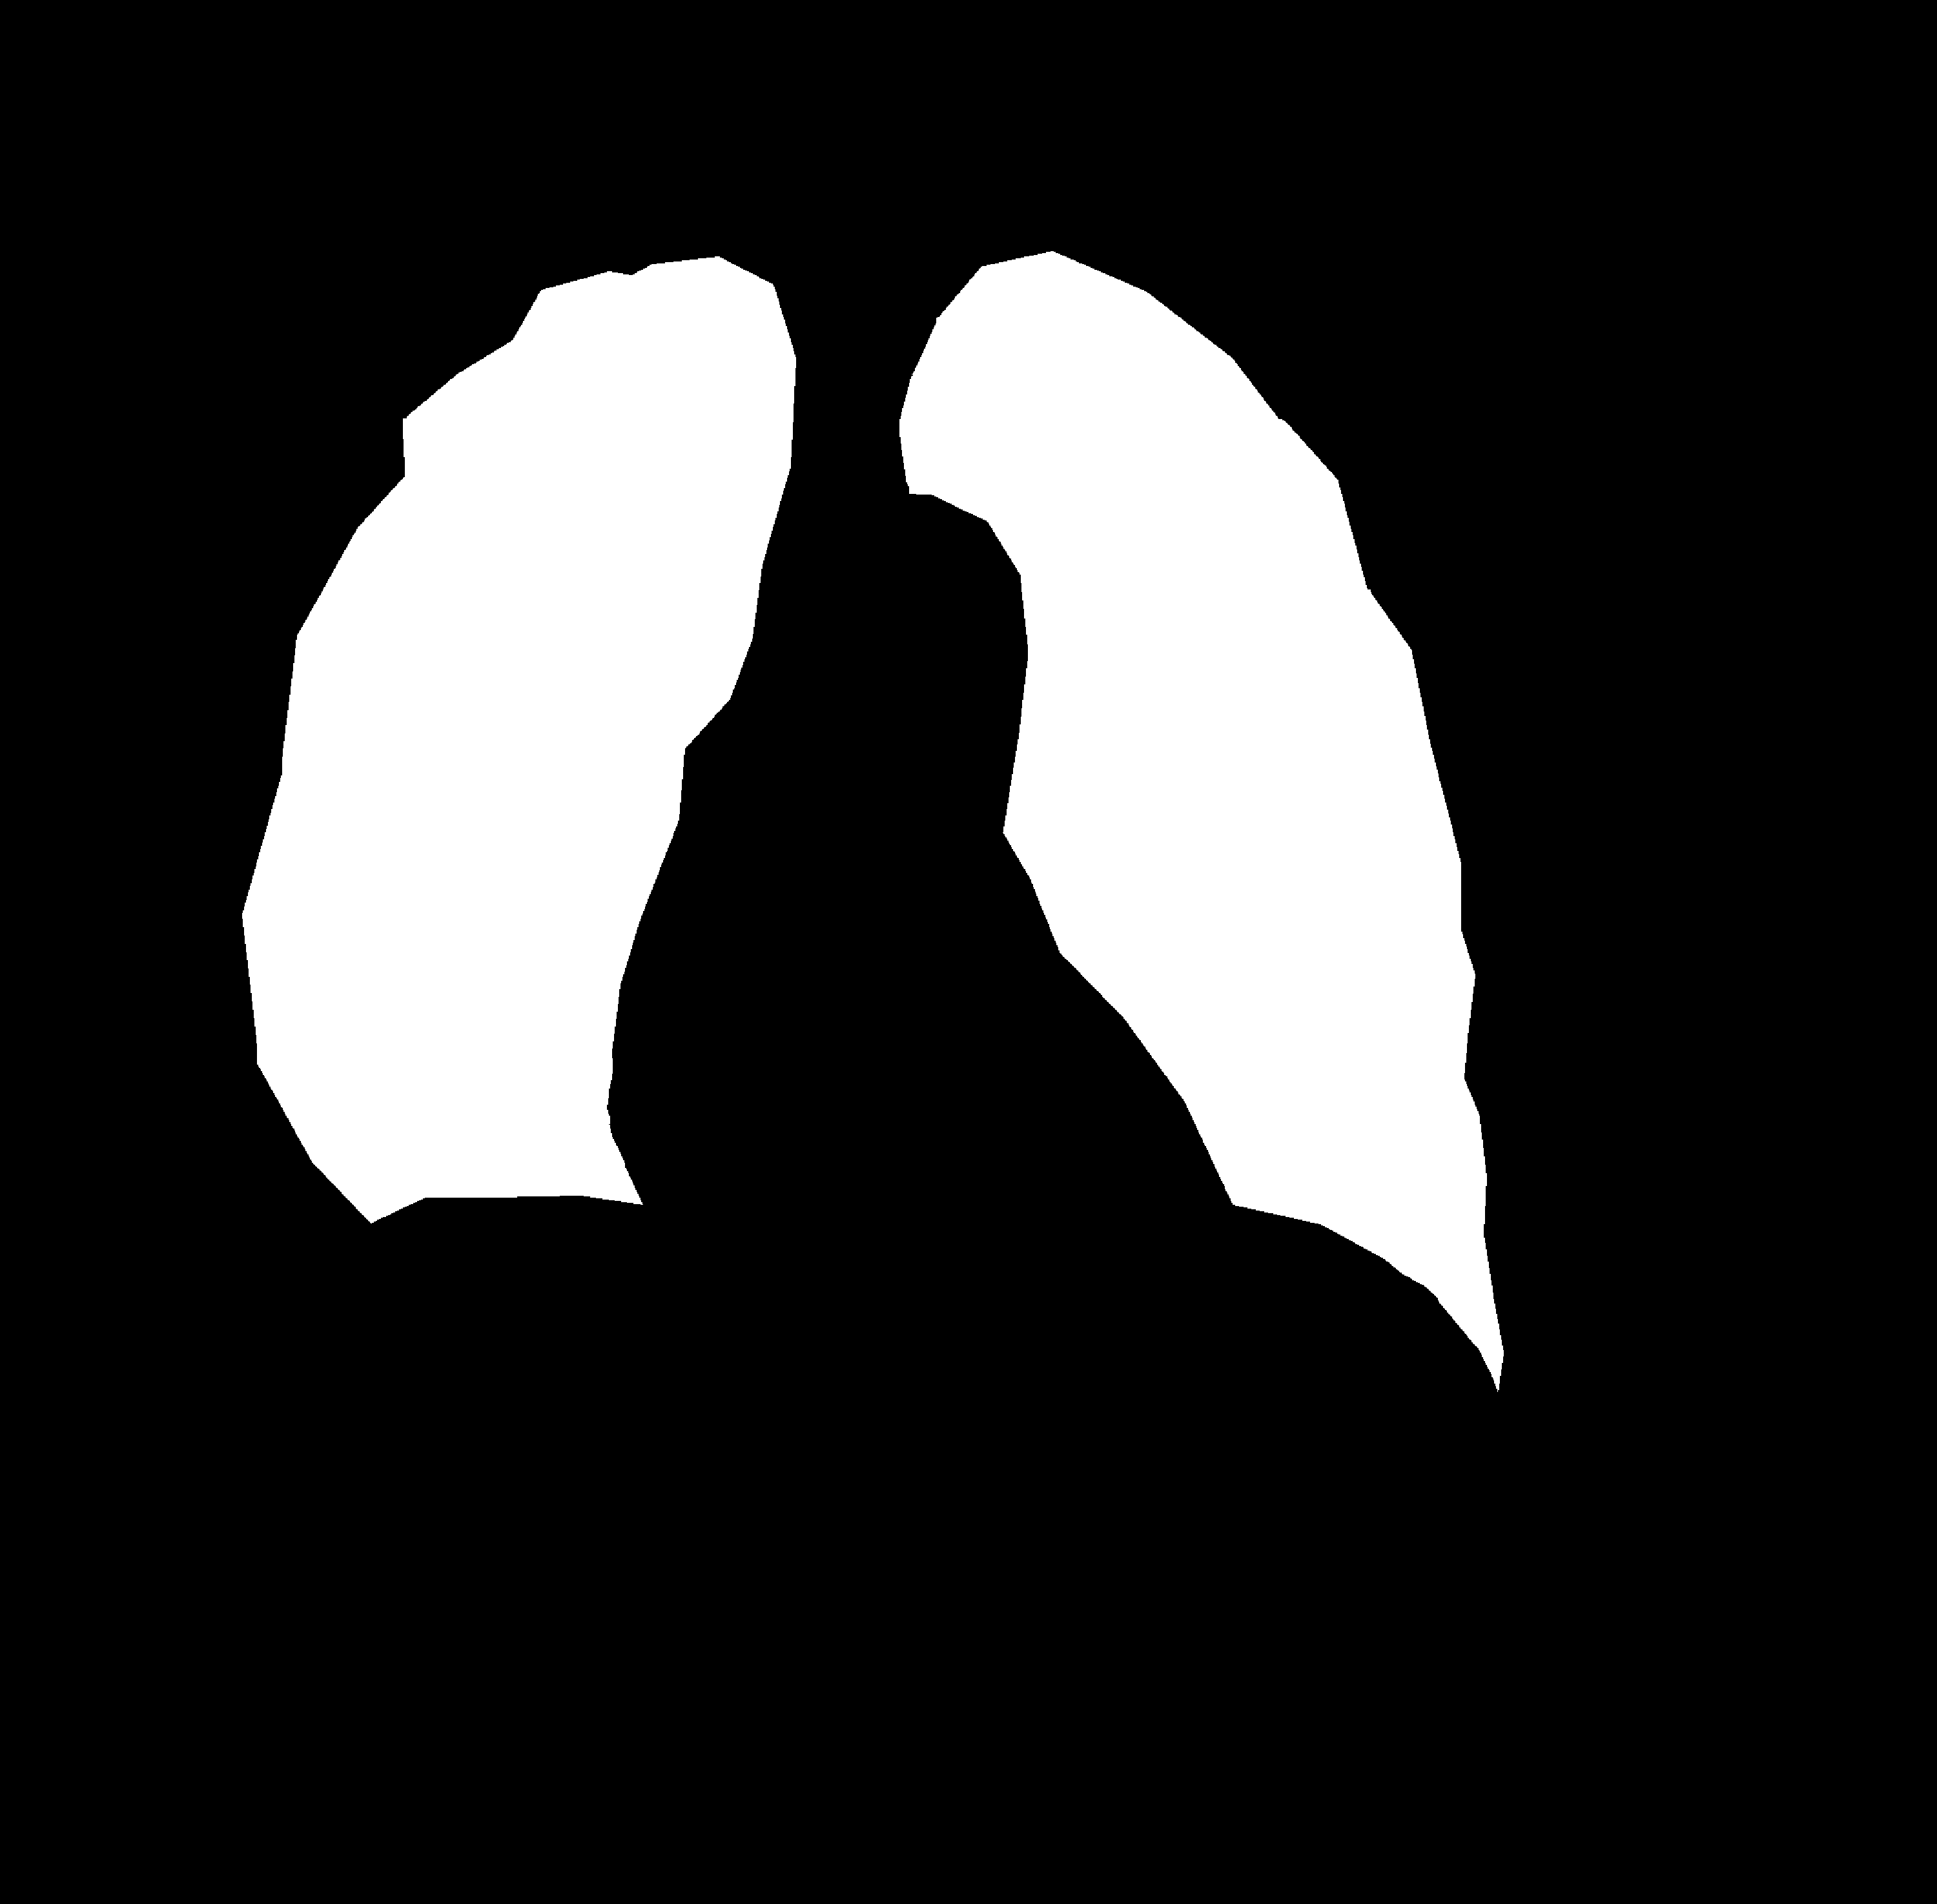heart: (595, 896, 1217, 1290)
left_lung: (242, 256, 795, 1222)
right_lung: (900, 251, 1503, 1391)
